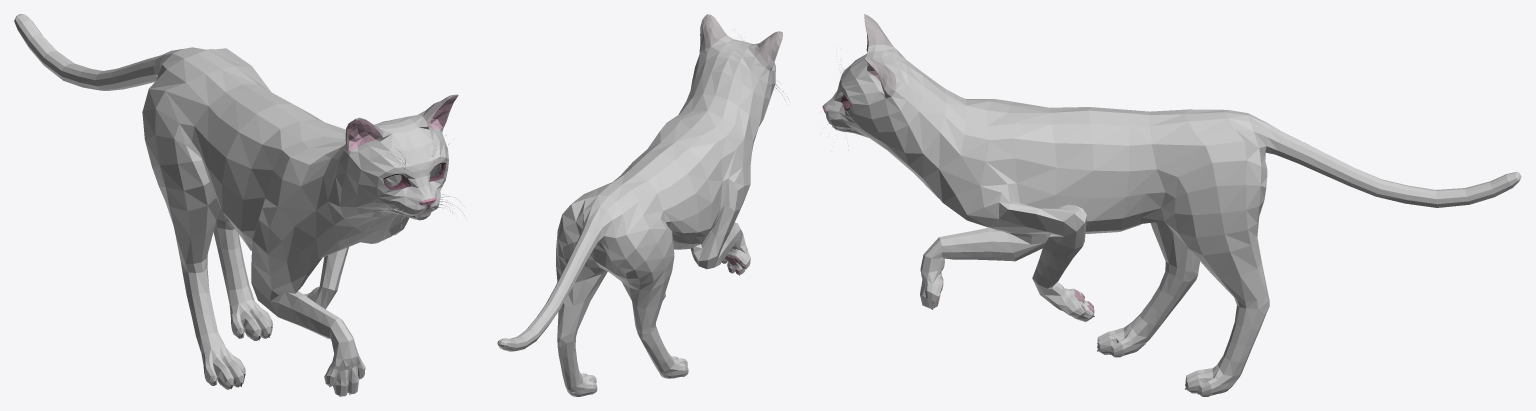
File: Run_F_01.glb
3 renders of one model, left to right at view 1: azimuth 30°, elevation 25°; view 2: azimuth 150°, elevation 25°; view 3: azimuth 270°, elevation 25°, orthographic. The views are drawn at different scales.
Parts seen in each view (by area): view 1: Run_F_01; view 2: Run_F_01; view 3: Run_F_01.
Part boxes in pixels (bbox=[...]): Run_F_01: bbox=[14, 14, 464, 396]; Run_F_01: bbox=[497, 14, 788, 396]; Run_F_01: bbox=[820, 14, 1521, 396].
Bounding box in the file's own units: 0.1635 × 0.4029 × 0.7573.
1 material, 1 textured.
